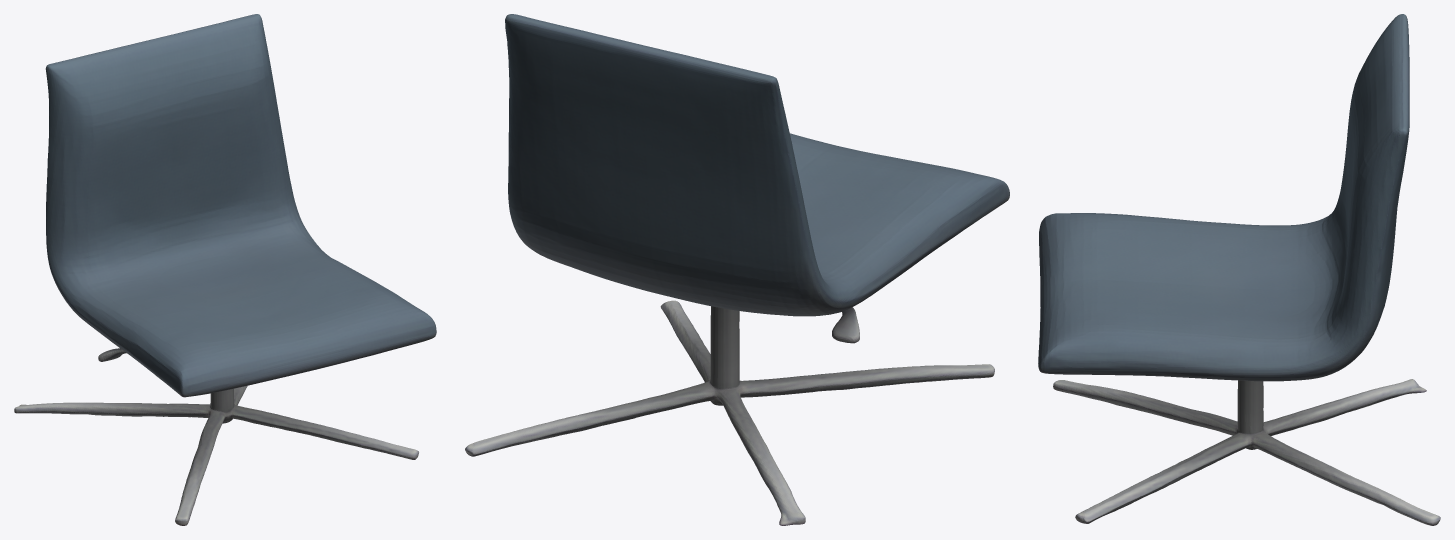
The model's file is ours.glb.
3 renders of one model, left to right at view 1: azimuth 30°, elevation 25°; view 2: azimuth 150°, elevation 25°; view 3: azimuth 270°, elevation 25°, orthographic. The views are drawn at different scales.
Parts seen in each view (by area): view 1: world; view 2: world; view 3: world.
Part boxes in pixels (box(x1,y1,x2,y2)): world: box(14, 14, 436, 525); world: box(465, 14, 1009, 525); world: box(1038, 14, 1440, 525).
Size of the model in its own units: 0.7929 by 0.9999 by 0.9431.
